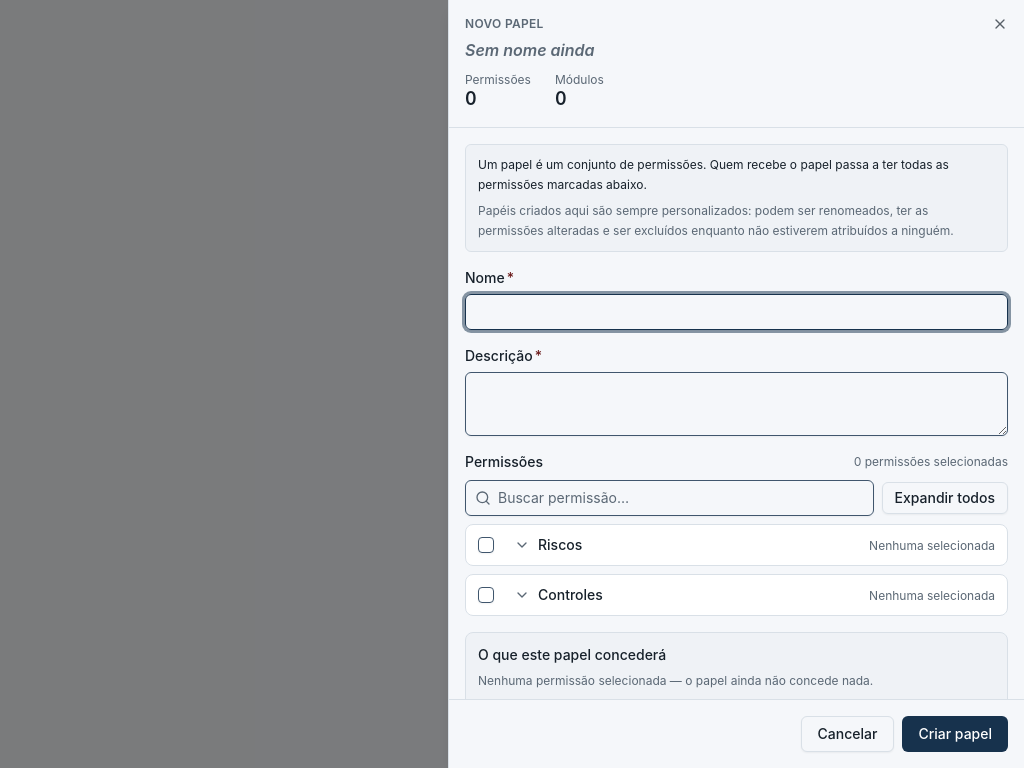
Test case: RoleCreatePanel — submitting › reports a duplicate name as a name conflict, and keeps what was composed
Expected: the button "Riscos Nenhuma selecionada" is shown, [502,524,1007,564]
Step 1. Type "Leitor de Riscos" into the field labelled "Nome*" → (736, 312), box [465,294,1008,330]
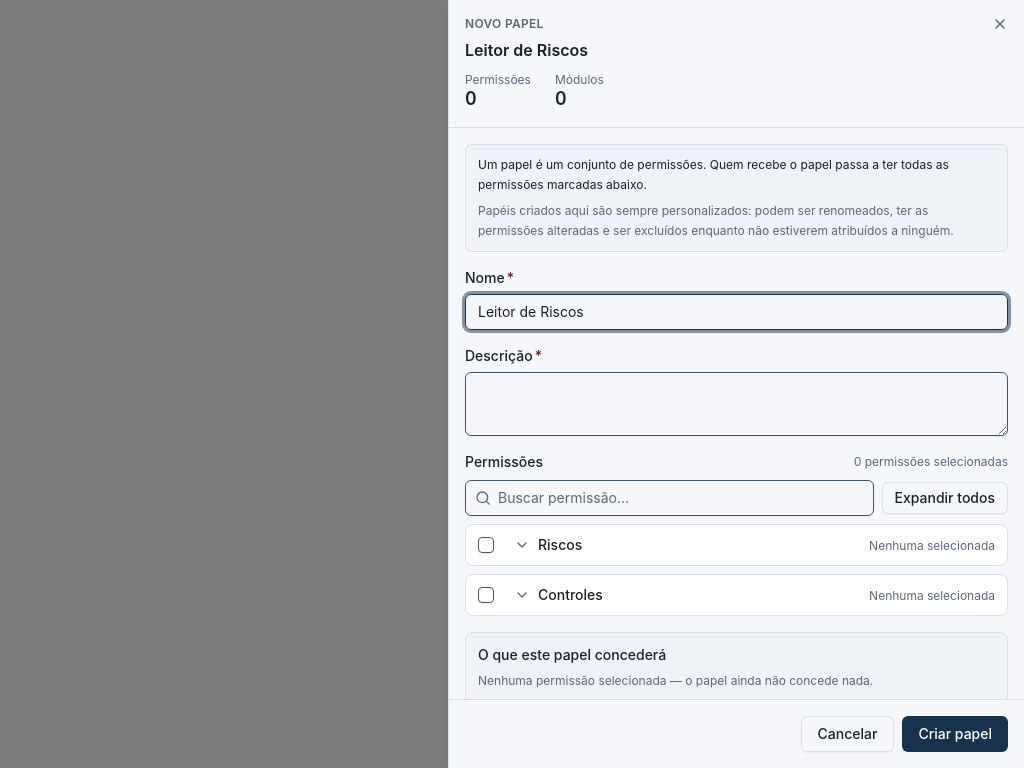
Step 2. Type "Só leitura de riscos." into the text box labelled "Descrição*" → (736, 404), box [465,372,1008,436]
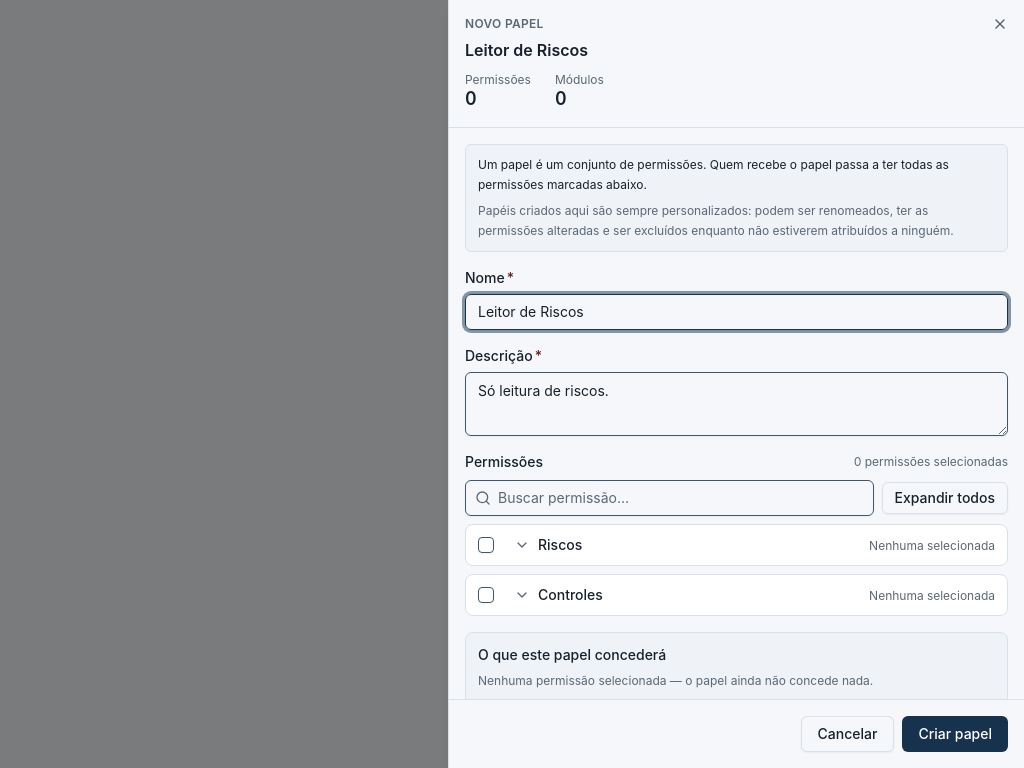
Step 3. Click the checkbox named "Selecionar todas as permissões de Controles" → (486, 594), box [478,586,494,602]
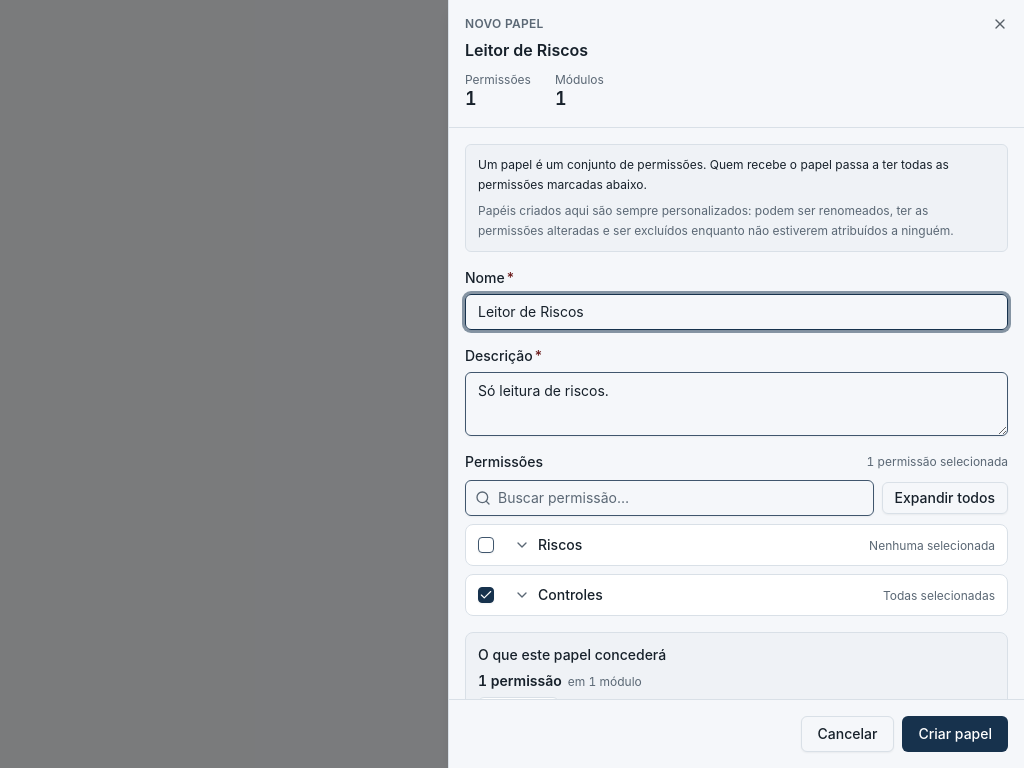
Step 4. Click the button "Criar papel" → (955, 734), box [902,716,1008,752]
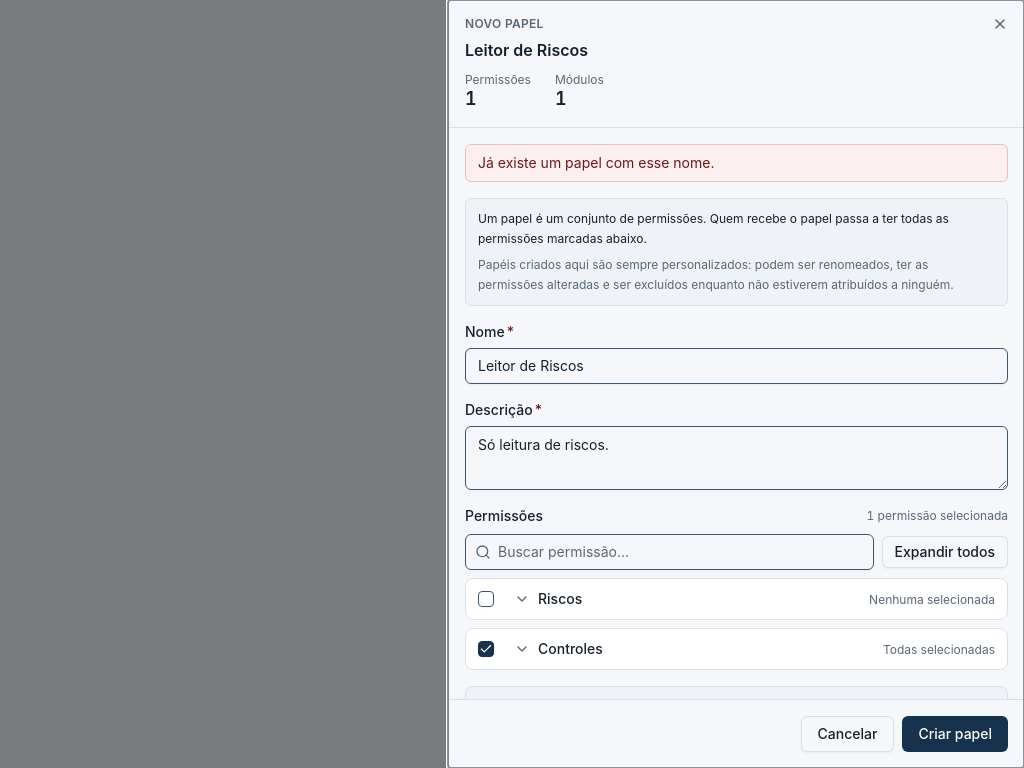
Now the message reads "Já existe um papel com esse nome.", box [478,154,714,170]
